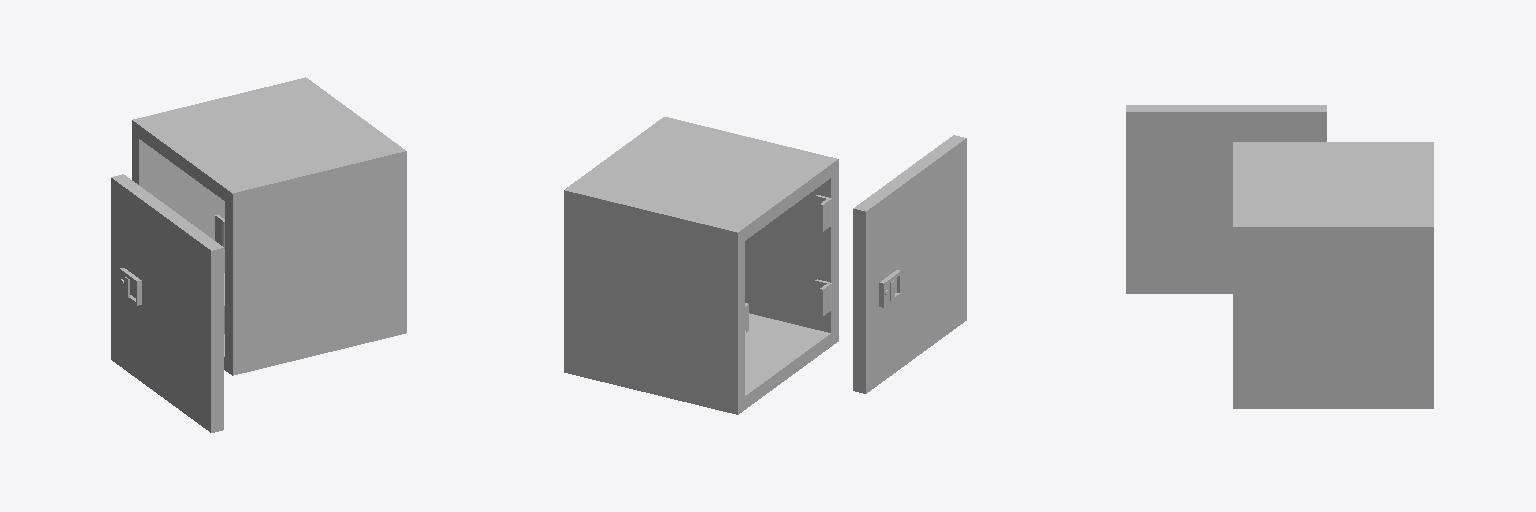
Rendered from 사물함.obj.
3 views of the same model, side by side, from view 1: azimuth 30°, elevation 25°; view 2: azimuth 150°, elevation 25°; view 3: azimuth 270°, elevation 25° (orthographic).
Parts seen in each view (by area): view 1: Box001, Box002; view 2: Box001, Box002, Cylinder002, Cylinder001; view 3: Box001, Box002.
Part boxes in pixels (left/top/right/bottom): Box001: left=132, top=77, right=406, bottom=375; Box002: left=111, top=174, right=223, bottom=432; Box001: left=564, top=117, right=838, bottom=414; Box002: left=853, top=135, right=966, bottom=393; Cylinder002: left=815, top=279, right=831, bottom=316; Cylinder001: left=815, top=195, right=831, bottom=231; Box001: left=1233, top=142, right=1433, bottom=408; Box002: left=1126, top=105, right=1326, bottom=293.
Bounding box in the file's own units: 39.42 × 27.01 × 41.35.